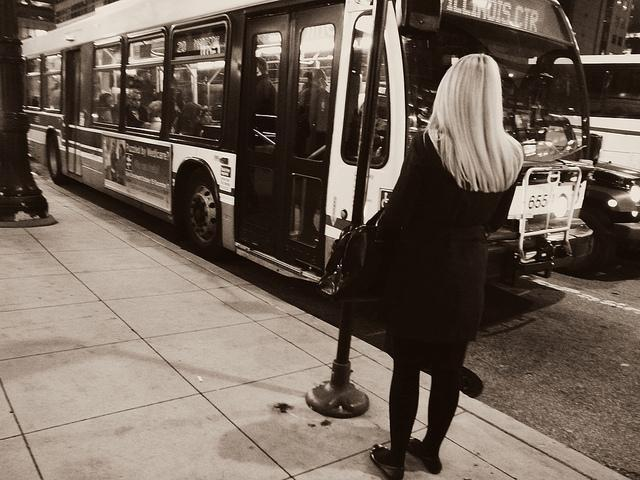bus: (26, 0, 590, 294)
car: (579, 154, 640, 250)
